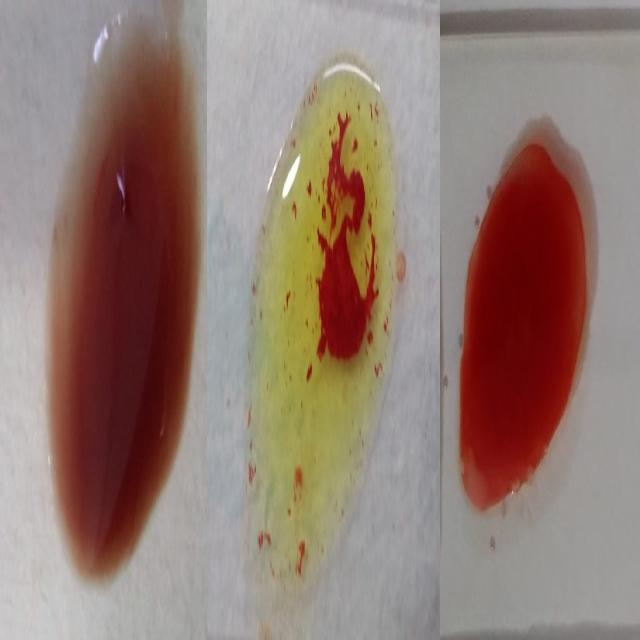B: (245, 46, 400, 593)
